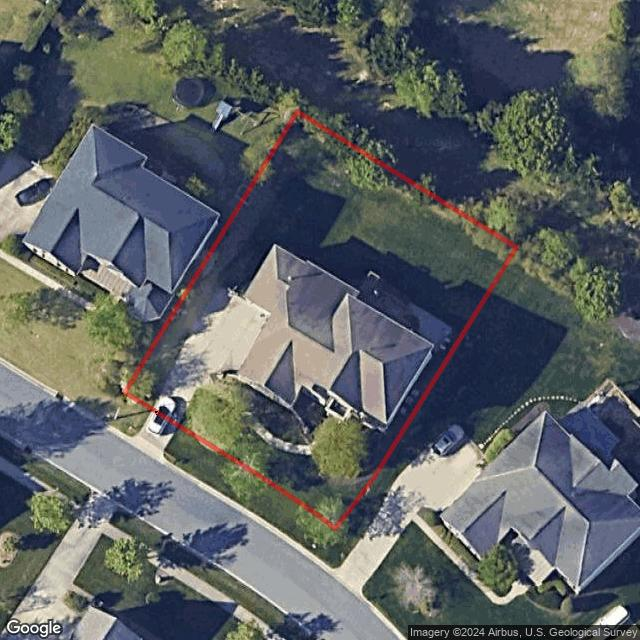Driveway: (153, 282, 269, 427)
Extra-Driveway: (134, 407, 179, 453)
Extra-Lawn: (163, 425, 336, 556), (110, 391, 153, 437)
House: (234, 245, 435, 429)
Lawn: (123, 112, 517, 528)
Other: (205, 371, 329, 444), (355, 272, 453, 349), (311, 417, 382, 482)
Sidewalk: (198, 380, 338, 454)
